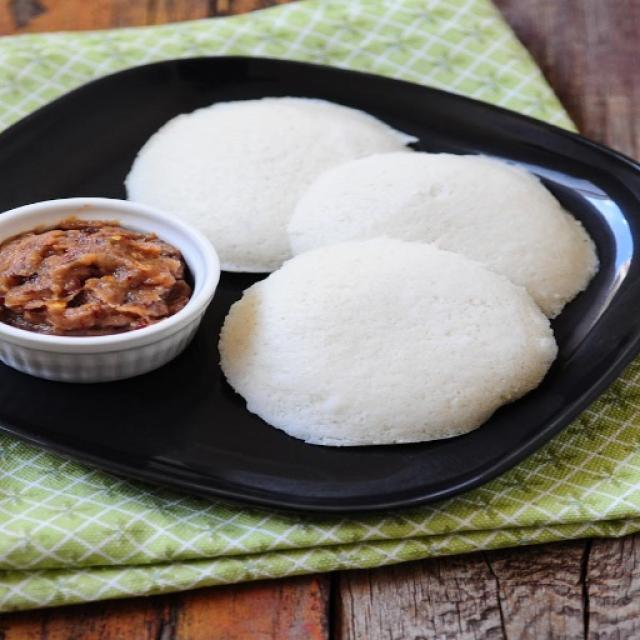CURRY: (0, 218, 190, 335)
IDLI: (126, 100, 598, 444)
